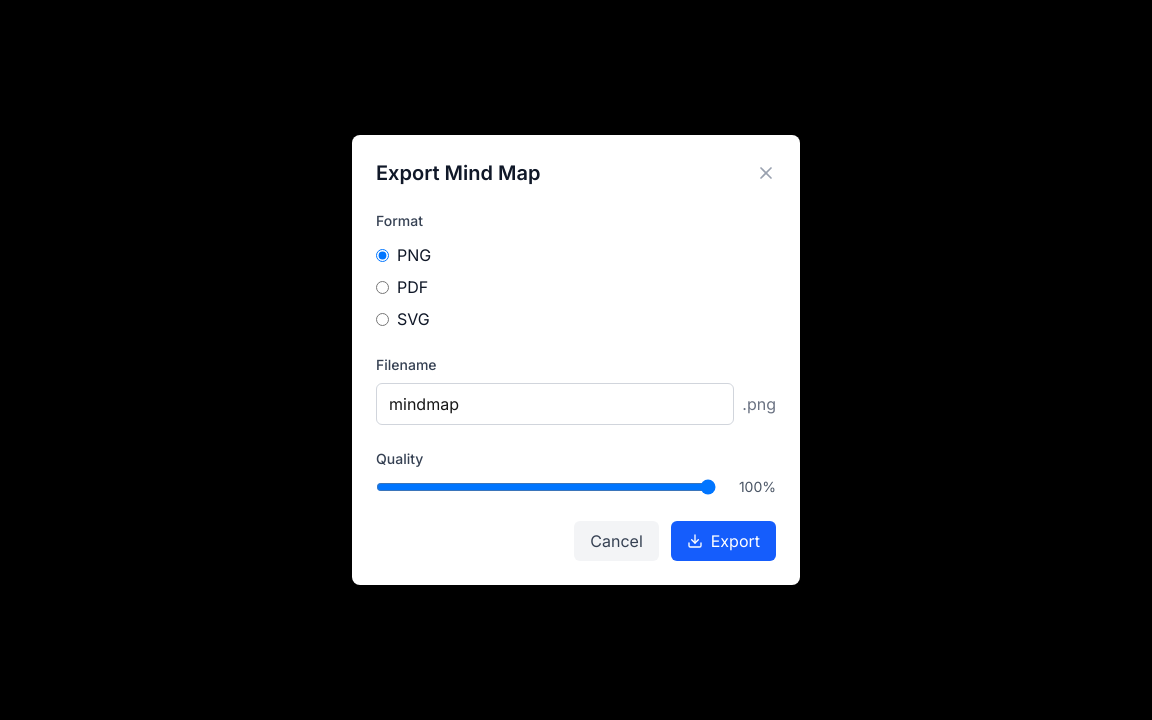
Test: ExportDialog › should hide quality slider for SVG format
What coordinates should you click on to do the following:
click the radio button labelled "SVG"
I would click on:
 (382, 319)
Its box is left=376, top=312, right=389, bottom=326.
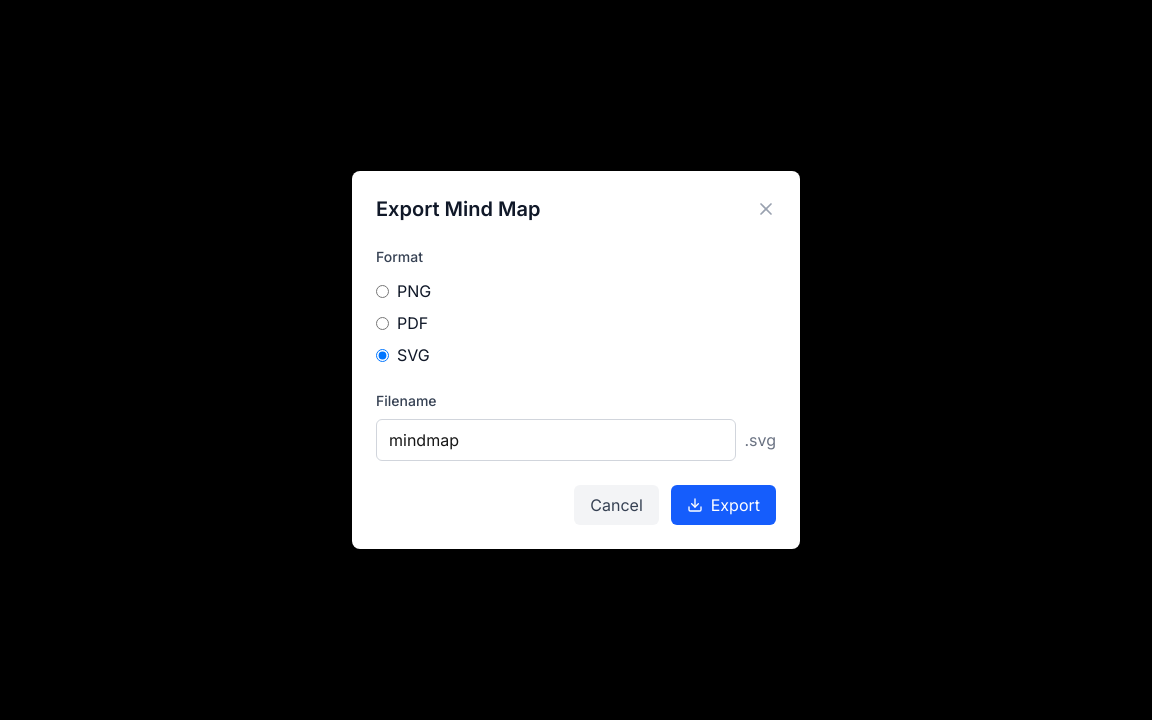
Check: the label labelled "Quality" is gone
